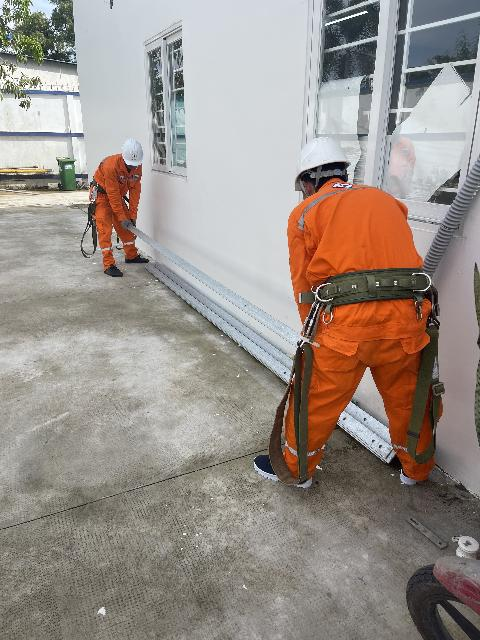gloves: (119, 212, 138, 232)
harness: (291, 272, 448, 307), (89, 171, 113, 199)
helmet: (288, 134, 359, 196), (114, 132, 149, 170)
shoes: (243, 440, 329, 499), (394, 457, 432, 497), (100, 258, 131, 285), (117, 250, 158, 269)
